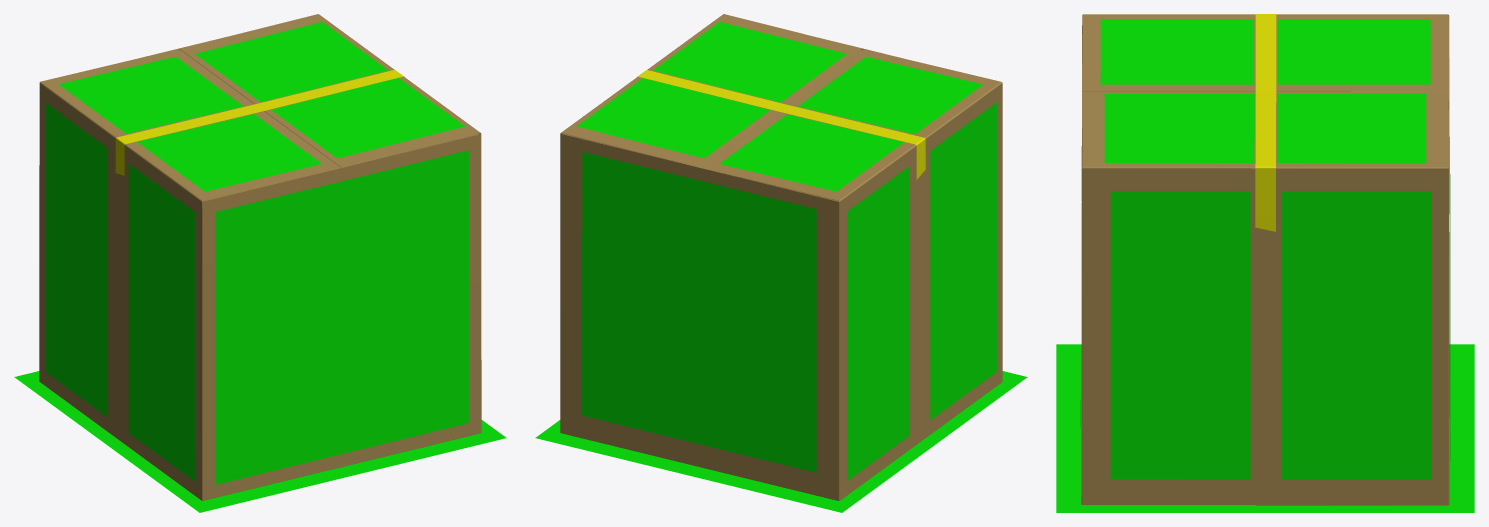
Rendered from box_large.fbx.
The picture shows the model from 3 angles, left to right: view 1: azimuth 30°, elevation 25°; view 2: azimuth 150°, elevation 25°; view 3: azimuth 270°, elevation 25°; orthographic projection. The views are drawn at different scales.
Visible parts, largest first — view 1: box_large_decal, box_large_box, box_large_shdw_decal, box_large_tape; view 2: box_large_decal, box_large_box, box_large_shdw_decal, box_large_tape; view 3: box_large_decal, box_large_box, box_large_shdw_decal, box_large_tape.
Part boxes in pixels (x1,y1,x2,y2): box_large_decal: [46, 22, 468, 484]; box_large_box: [39, 14, 481, 500]; box_large_shdw_decal: [14, 371, 506, 512]; box_large_tape: [115, 69, 404, 175]; box_large_decal: [577, 22, 996, 480]; box_large_box: [560, 14, 1002, 500]; box_large_shdw_decal: [535, 371, 1027, 512]; box_large_tape: [637, 70, 925, 179]; box_large_decal: [1080, 19, 1450, 479]; box_large_box: [1081, 14, 1449, 505]; box_large_shdw_decal: [1056, 344, 1474, 512]; box_large_tape: [1255, 14, 1276, 231].
Size of the model in its own units: 28.25 by 26.45 by 29.59.
